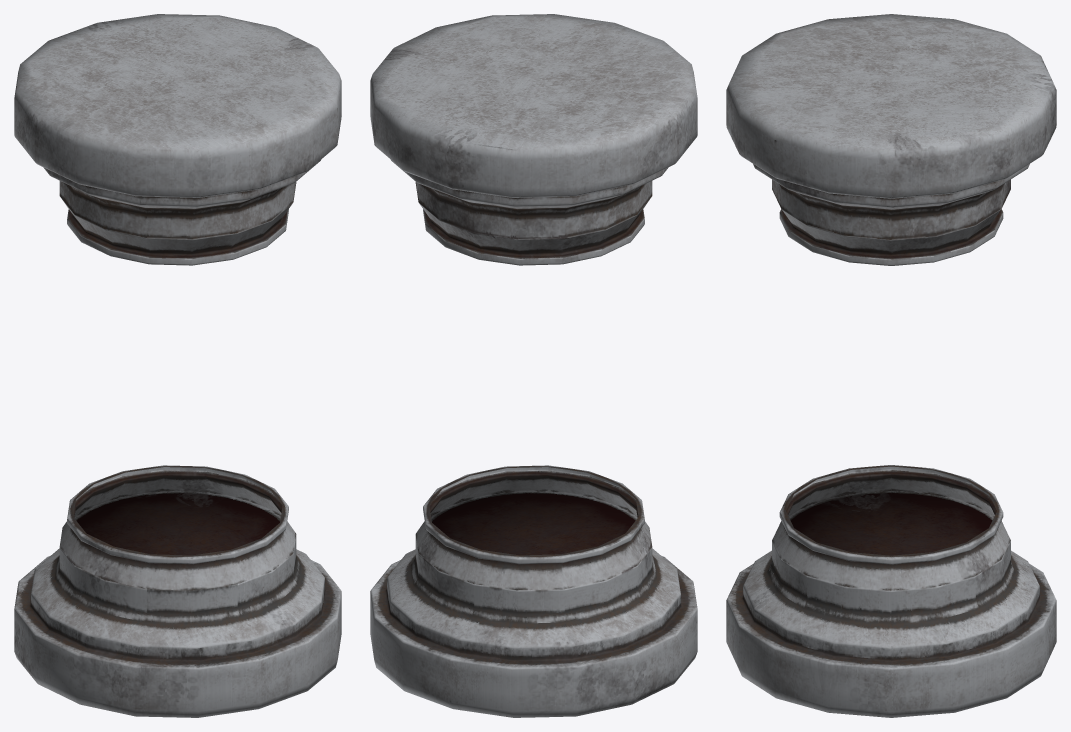
Rendered from Core_sylinder.fbx.
The picture shows the model from 3 angles, left to right: view 1: azimuth 30°, elevation 25°; view 2: azimuth 150°, elevation 25°; view 3: azimuth 270°, elevation 25°; orthographic projection.
Parts seen in each view (by area): view 1: low; view 2: low; view 3: low.
Boxes of the visible parts, <box> form: low: <box>14,14,341,717</box>; low: <box>370,14,697,717</box>; low: <box>726,14,1056,717</box>.
Bounding box in the file's own units: 1061 × 2029 × 1061.
Materials: 2 (2 with a texture image).
